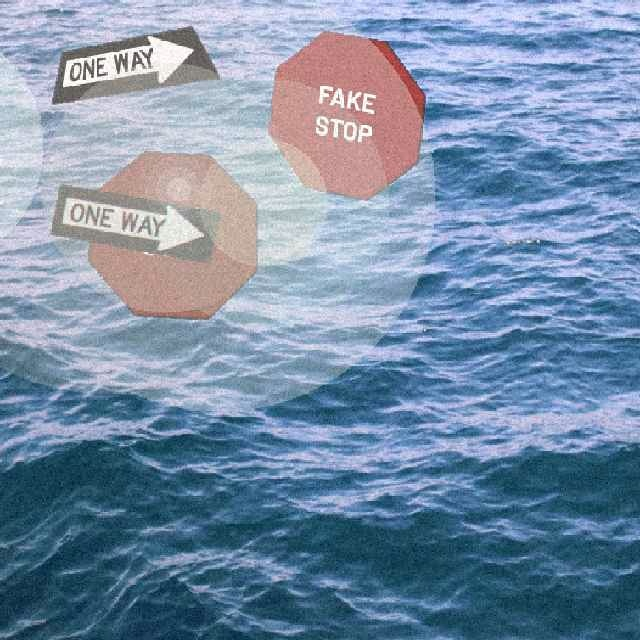FAKE_STOP: (86, 149, 257, 319), (266, 29, 425, 200)
ONE_WAY_ right: (48, 182, 219, 262), (49, 24, 220, 104)
